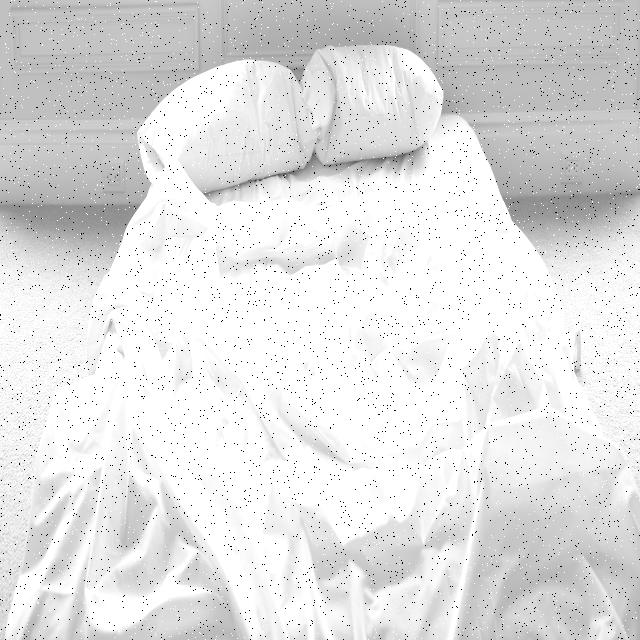bed: (78, 82, 602, 640)
